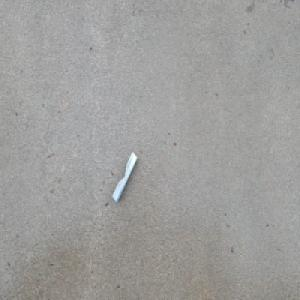ClampPart: (112, 151, 138, 204)
